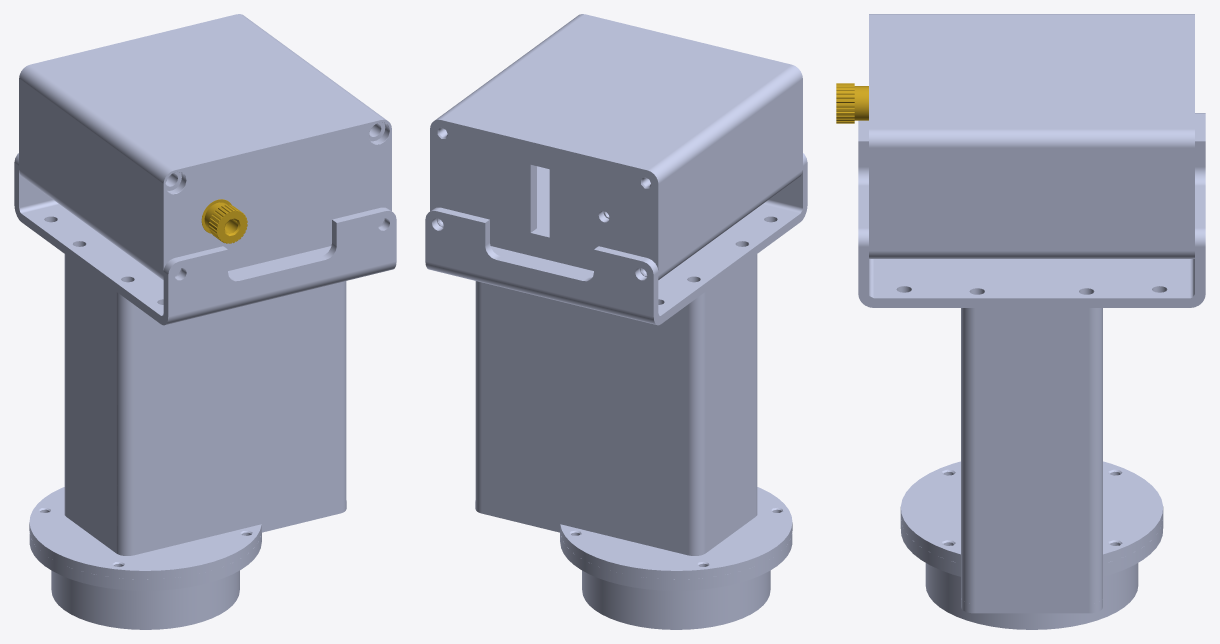
Rendered from rotate_arm.obj.
3 views of the same model, side by side, from view 1: azimuth 30°, elevation 25°; view 2: azimuth 150°, elevation 25°; view 3: azimuth 270°, elevation 25° (orthographic). The views are drawn at different scales.
Parts seen in each view (by area): view 1: object 1, object 3, mesh 4 MotorBox-1-solid1; view 2: object 3, object 1; view 3: object 3, object 1, mesh 4 MotorBox-1-solid1.
Boxes of the visible parts, box(x1,y1,x2,y2) form: object 1: box(14, 92, 396, 629); object 3: box(19, 14, 349, 487); mesh 4 MotorBox-1-solid1: box(201, 199, 247, 243); object 3: box(430, 41, 765, 487); object 1: box(425, 14, 807, 629); object 3: box(954, 14, 1194, 526); object 1: box(858, 14, 1205, 629); mesh 4 MotorBox-1-solid1: box(836, 83, 868, 123).
Size of the model in its own units: 0.0505 by 0.0849 by 0.0521.
